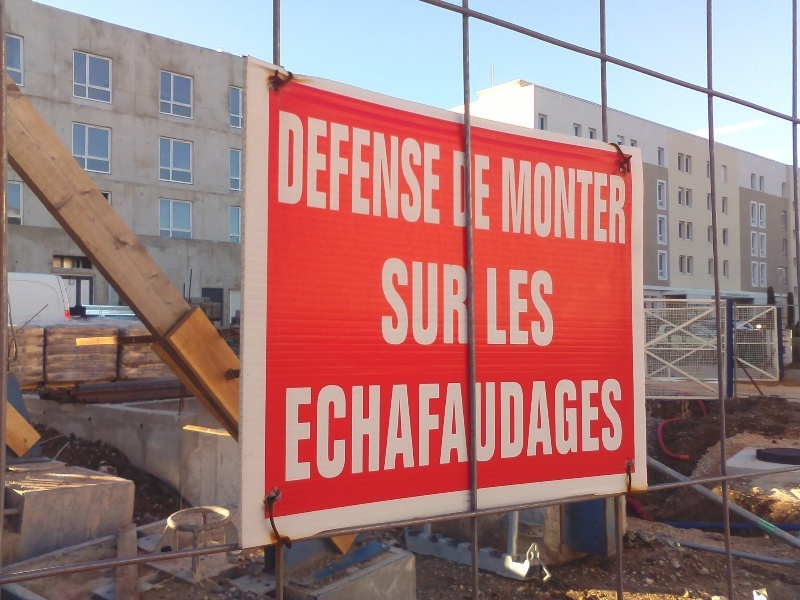text: (289, 109, 304, 227), (305, 109, 320, 227), (321, 109, 336, 227), (337, 109, 352, 227), (353, 109, 368, 227), (369, 109, 384, 227), (385, 109, 400, 227), (401, 109, 416, 227), (417, 109, 432, 227), (289, 378, 304, 483), (305, 378, 320, 483), (321, 378, 336, 483), (337, 378, 352, 483), (353, 378, 368, 483), (369, 378, 384, 483), (385, 378, 400, 483), (401, 378, 416, 483), (417, 378, 432, 483), (433, 378, 448, 483), (449, 378, 464, 483), (465, 378, 480, 483), (481, 378, 496, 483), (497, 378, 512, 483), (513, 378, 528, 483), (529, 378, 544, 483), (545, 378, 560, 483), (561, 378, 576, 483), (577, 378, 592, 483), (593, 378, 608, 483), (609, 378, 624, 483), (513, 156, 528, 245), (529, 156, 544, 245), (545, 156, 560, 245), (561, 156, 576, 245), (577, 156, 592, 245), (593, 156, 608, 245), (609, 156, 624, 245), (385, 256, 400, 345), (401, 256, 416, 345), (417, 256, 432, 345), (433, 256, 448, 345), (449, 256, 464, 345), (277, 109, 288, 227), (465, 151, 480, 232), (497, 267, 512, 347), (513, 267, 528, 347), (529, 267, 544, 347), (433, 109, 442, 227), (501, 156, 512, 245), (452, 151, 464, 232), (481, 151, 491, 232), (486, 267, 496, 347), (545, 267, 555, 347), (465, 256, 472, 345), (283, 378, 288, 483), (625, 156, 627, 245), (382, 256, 384, 345), (625, 378, 626, 483)
